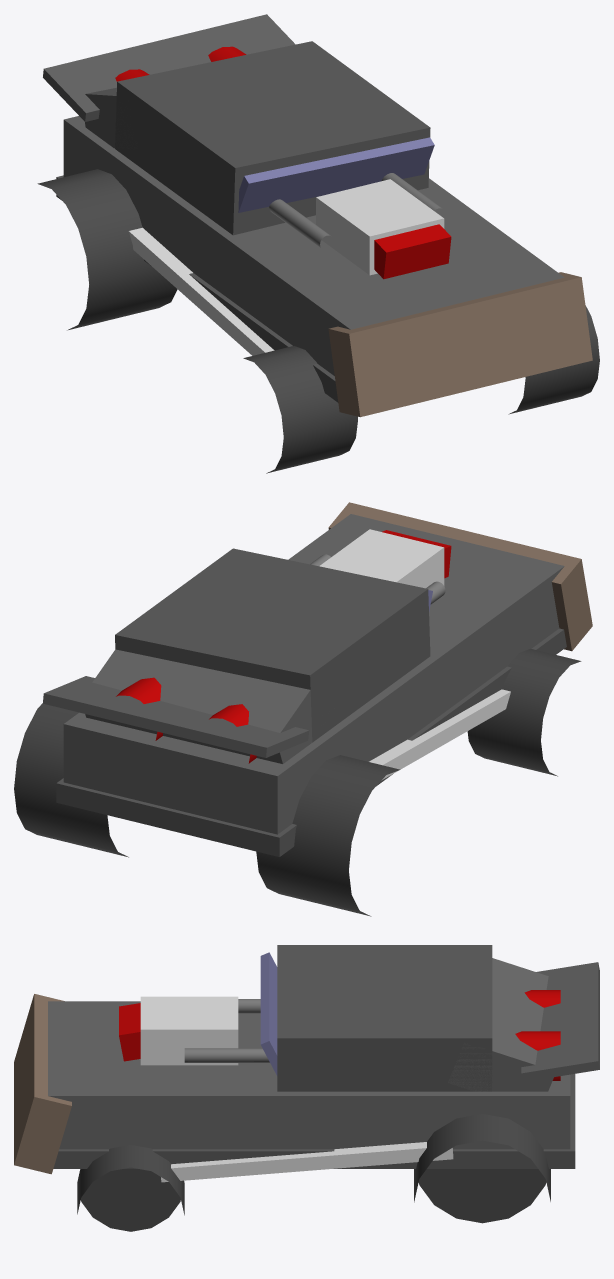
Rendered from WastelandRaiderMax - Copy.glb.
3 views of the same model, one above another, from view 1: azimuth 30°, elevation 25°; view 2: azimuth 150°, elevation 25°; view 3: azimuth 270°, elevation 25° (orthographic). The views are drawn at different scales.
Parts seen in each view (by area): view 1: cabin, body_main, bullbar, wheel_rl, spoiler_main, wheel_fl, windshield, blower, exhaust_l, blower_intake, wheel_fr, Chassis (+2 smaller); view 2: body_main, cabin, wheel_rl, fastback, wheel_rr, spoiler_main, Chassis, wheel_fl, bullbar, blower, exhaust_l, gas_tank_2 (+1 smaller); view 3: body_main, cabin, wheel_rr, wheel_fr, fastback, bullbar, blower, spoiler_main, Chassis, exhaust_r, windshield, GunR (+3 smaller).
Part boxes in pixels (x1,y1,x2,y2): cabin: (115, 41, 430, 235); body_main: (63, 116, 564, 375); bullbar: (328, 272, 592, 417); wheel_rl: (37, 169, 177, 330); spoiler_main: (43, 14, 295, 121); wheel_fl: (243, 346, 357, 473); windshield: (238, 137, 434, 212); blower: (316, 179, 444, 275); exhaust_l: (128, 227, 274, 355); blower_intake: (374, 224, 451, 279); wheel_fr: (508, 305, 599, 414); Chassis: (56, 175, 338, 402); body_main: (63, 514, 564, 834); cabin: (115, 548, 430, 742); wheel_rl: (256, 755, 400, 916); fastback: (85, 649, 334, 763); wheel_rr: (14, 703, 128, 857); spoiler_main: (43, 676, 309, 757); Chassis: (56, 628, 566, 856); wheel_fl: (467, 648, 581, 776); bullbar: (328, 502, 592, 651); blower: (319, 529, 444, 588); exhaust_l: (369, 689, 510, 780); gas_tank_2: (116, 677, 162, 740); body_main: (48, 1001, 570, 1149); cabin: (277, 945, 492, 1091); wheel_rr: (414, 1114, 550, 1223); wheel_fr: (77, 1145, 184, 1231); fastback: (448, 958, 553, 1091); bullbar: (14, 994, 71, 1174); blower: (140, 996, 238, 1065); spoiler_main: (521, 962, 599, 1081); Chassis: (53, 1074, 575, 1168); exhaust_r: (161, 1142, 453, 1182); windshield: (260, 952, 277, 1075); GunR: (184, 1048, 269, 1062).
Size of the model in its own units: 3.6 by 2.34 by 6.
